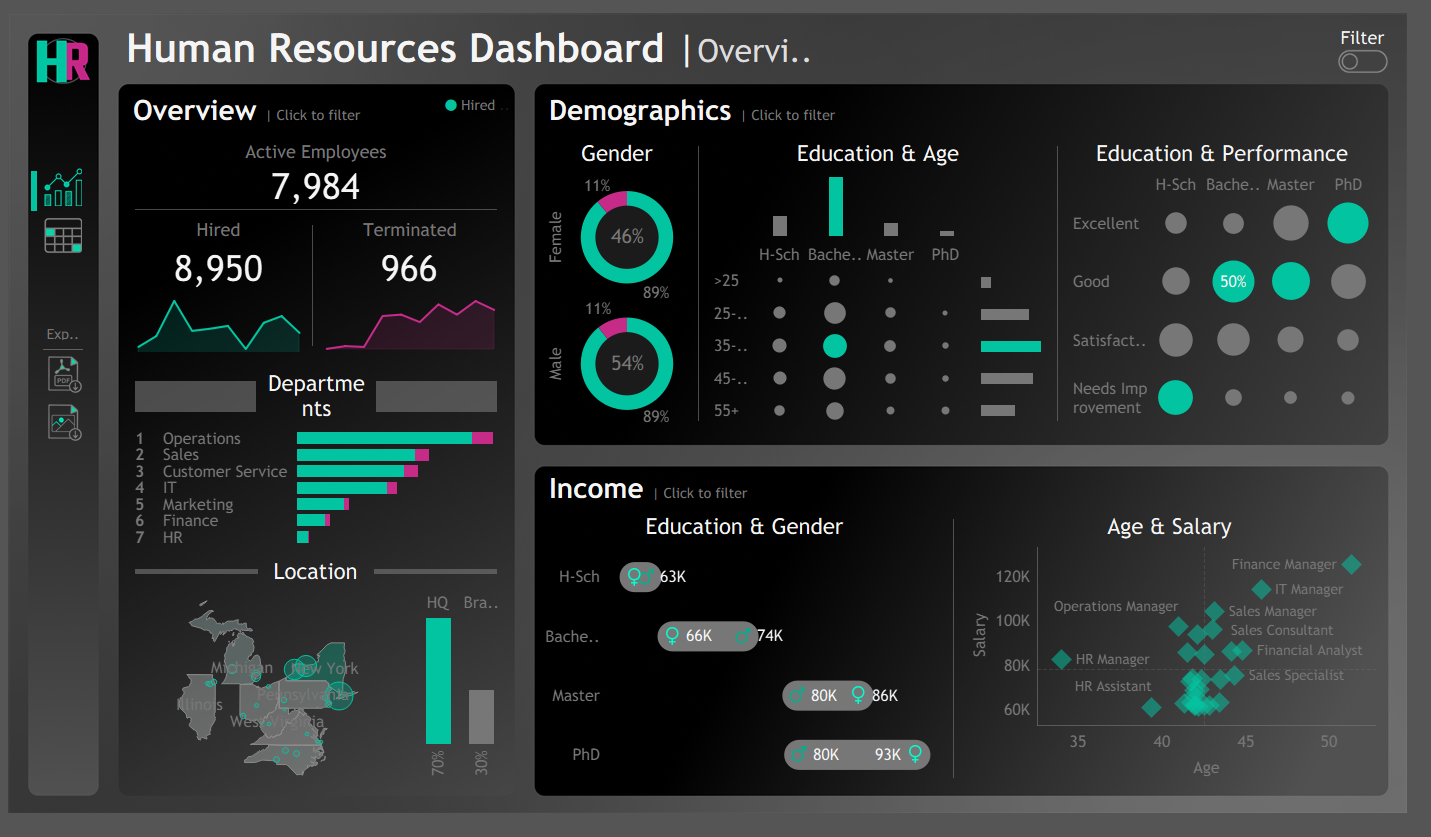

This screenshot's page, from the dashboard's own definition file:
{"tool":"tableau","page":{"name":"HR | Summary","canvas":[1400,800],"ordinal":1},"visuals":[{"type":"image","param":"Image/background dashbaord summary.png","box":[0,0,1400,800]},{"type":"blank","box":[90,0,1309,240]},{"type":"text","box":[110,0,703,70]},{"type":"blank","box":[813,0,567,70]},{"type":"filter","title":"Gender vs Education Level","param":"[federated.1uy6vyf0tya8w3119f4041qdymfc].[none:Gender:nk]","box":[750,9,142,51]},{"type":"filter","title":"Gender vs Education Level","param":"[federated.1uy6vyf0tya8w3119f4041qdymfc].[none:Calculation_2981664453132697602:n","box":[892,9,142,51]},{"type":"filter","title":"Gender vs Education Level","param":"[federated.1uy6vyf0tya8w3119f4041qdymfc].[none:Calculation_3363625995846344715:n","box":[1034,9,142,51]},{"type":"filter","title":"Gender vs Education Level","param":"[federated.1uy6vyf0tya8w3119f4041qdymfc].[yr:Hiredate:ok]","box":[1176,9,142,51]},{"type":"text","box":[1319,10,71,30]},{"type":"image","param":"Image/Logo.png","box":[20,20,70,55]},{"type":"dashboard-object","box":[1329,25,51,48]},{"type":"text","box":[117,77,382,41]},{"type":"text","box":[433,77,85,32]},{"type":"text","box":[533,77,840,41]},{"type":"blank","box":[30,85,50,70]},{"type":"text","box":[117,118,382,35]},{"type":"text","box":[533,123,152,34]},{"type":"blank","box":[690,123,1,295]},{"type":"text","box":[696,123,348,34]},{"type":"blank","box":[1049,123,1,295]},{"type":"text","box":[1055,123,318,34]},{"type":"worksheet","title":"BAN Active","mark":"Text","box":[117,153,382,43]},{"type":"dashboard-object","box":[30,155,50,38]},{"type":"worksheet","title":"Gender","mark":"Pie","rows":["Gender"],"cols":["Calculation_3363625995853570061","Calculation_3363625995853570061"],"box":[533,157,152,261]},{"type":"worksheet","title":"Education Levels","mark":"Bar","rows":["Calculation_3363625995831468034"],"cols":["Education Level"],"box":[696,157,348,70]},{"type":"worksheet","title":"Education vs Performance","mark":"Circle","rows":["Performance Rating"],"cols":["Education Level"],"box":[1055,157,318,261]},{"type":"blank","box":[23,158,6,40]},{"type":"blank","box":[30,193,50,10]},{"type":"blank","box":[117,196,382,1]},{"type":"text","box":[117,202,187,29]},{"type":"blank","box":[304,202,1,141]},{"type":"text","box":[305,202,193.9,29]},{"type":"dashboard-object","box":[30,203,50,38]},{"type":"worksheet","title":"Age vs Education","mark":"Circle","rows":["Calculation_3363625995862552598"],"cols":["Education Level"],"box":[696,227,273,191]},{"type":"worksheet","title":"Age Groups","mark":"Bar","rows":["Calculation_3363625995862552598"],"cols":["Calculation_3363625995831468034"],"box":[969,227,71,191]},{"type":"worksheet","title":"BAN Hired","mark":"Text","box":[117,231,187,49]},{"type":"worksheet","title":"BAN Terminated","mark":"Text","box":[305,231,193.9,49]},{"type":"text","box":[90,240,1309,320]},{"type":"blank","box":[30,241,50,70]},{"type":"worksheet","title":"Hired By Year","mark":"Line","rows":["Calculation_3363625995831468034","Calculation_3363625995831468034"],"cols":["Hiredate"],"box":[117,280,187,63]},{"type":"worksheet","title":"Terminated By Year","mark":"Line","rows":["Calculation_3363625995832086533","Calculation_3363625995832086533"],"cols":["Termdate"],"box":[305,280,193.9,63]},{"type":"text","box":[30,311,50,20]},{"type":"blank","box":[30,331,50,11]},{"type":"dashboard-object","box":[30,342,50,38]},{"type":"blank","box":[127,353,120.7,60]},{"type":"text","box":[247.7,353,120.7,60]},{"type":"blank","box":[368.3,353,120.7,60]},{"type":"blank","box":[30,380,50,10]},{"type":"dashboard-object","box":[30,390,50,38]},{"type":"worksheet","title":"Departments","mark":"Bar","rows":["Calculation_3363625995844042762","Department"],"cols":["Calculation_3363625995831468034"],"box":[117,413,382,123]},{"type":"blank","box":[30,428,50,10]},{"type":"text","box":[533,459,840,32]},{"type":"text","box":[533,496,407.5,34]},{"type":"blank","box":[945.5,496,1,279]},{"type":"text","box":[951.5,496,421.5,34]},{"type":"worksheet","title":"Gender vs Education Level","mark":"Square","rows":["Education Level"],"cols":["Salary","Salary"],"box":[533,530,407.5,245]},{"type":"worksheet","title":"Age vs Salary","mark":"Shape","rows":["Salary"],"cols":["Calculation_3363625995860541454"],"box":[951.5,530,421.5,245]},{"type":"blank","box":[127,541,123.3,34]},{"type":"text","box":[250.3,541,115.3,34]},{"type":"blank","box":[365.6,541,123.3,34]},{"type":"blank","box":[90,560,1309,240]},{"type":"worksheet","title":"Map States","mark":"Automatic","box":[117,575,287,200]},{"type":"worksheet","title":"Location","mark":"Bar","rows":["Calculation_3363625995831468034"],"cols":["Calculation_3363625995846344715","Calculation1"],"box":[404,575,95,200]}]}

Visuals, with their boxes in screenshot pixels (x1, y1, x2, y2), scaled from the page's 1400x800 canvas onto the 1431x837 screenshot:
image: (0,0,1430,836)
blank: (92,0,1430,251)
text: (112,0,831,73)
blank: (831,0,1411,73)
"Gender vs Education Level" filter: (767,9,912,63)
"Gender vs Education Level" filter: (912,9,1057,63)
"Gender vs Education Level" filter: (1057,9,1202,63)
"Gender vs Education Level" filter: (1202,9,1347,63)
text: (1348,10,1421,42)
image: (20,21,92,78)
dashboard-object: (1358,26,1411,76)
text: (120,81,510,123)
text: (443,81,529,114)
text: (545,81,1403,123)
blank: (31,89,82,162)
text: (120,123,510,160)
text: (545,129,700,164)
blank: (705,129,706,437)
text: (711,129,1067,164)
blank: (1072,129,1073,437)
text: (1078,129,1403,164)
"BAN Active" worksheet (Text marks): (120,160,510,205)
dashboard-object: (31,162,82,202)
"Gender" worksheet (Pie marks): (545,164,700,437)
"Education Levels" worksheet (Bar marks): (711,164,1067,237)
"Education vs Performance" worksheet (Circle marks): (1078,164,1403,437)
blank: (24,165,30,207)
blank: (31,202,82,212)
blank: (120,205,510,206)
text: (120,211,311,242)
blank: (311,211,312,359)
text: (312,211,510,242)
dashboard-object: (31,212,82,252)
"Age vs Education" worksheet (Circle marks): (711,237,990,437)
"Age Groups" worksheet (Bar marks): (990,237,1063,437)
"BAN Hired" worksheet (Text marks): (120,242,311,293)
"BAN Terminated" worksheet (Text marks): (312,242,510,293)
text: (92,251,1430,586)
blank: (31,252,82,325)
"Hired By Year" worksheet (Line marks): (120,293,311,359)
"Terminated By Year" worksheet (Line marks): (312,293,510,359)
text: (31,325,82,346)
blank: (31,346,82,358)
dashboard-object: (31,358,82,398)
blank: (130,369,253,432)
text: (253,369,377,432)
blank: (376,369,500,432)
blank: (31,398,82,408)
dashboard-object: (31,408,82,448)
"Departments" worksheet (Bar marks): (120,432,510,561)
blank: (31,448,82,458)
text: (545,480,1403,514)
text: (545,519,961,555)
blank: (966,519,967,811)
text: (973,519,1403,555)
"Gender vs Education Level" worksheet (Square marks): (545,555,961,811)
"Age vs Salary" worksheet (Shape marks): (973,555,1403,811)
blank: (130,566,256,602)
text: (256,566,374,602)
blank: (374,566,500,602)
blank: (92,586,1430,836)
"Map States" worksheet: (120,602,413,811)
"Location" worksheet (Bar marks): (413,602,510,811)
